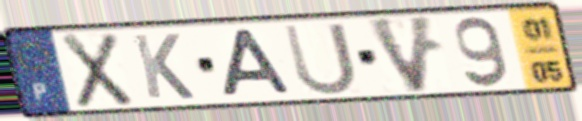9: (451, 14, 512, 90)
A: (219, 27, 296, 100)
K: (129, 31, 198, 101)
U: (279, 19, 361, 98)
V: (363, 13, 439, 97)
X: (58, 30, 137, 111)
